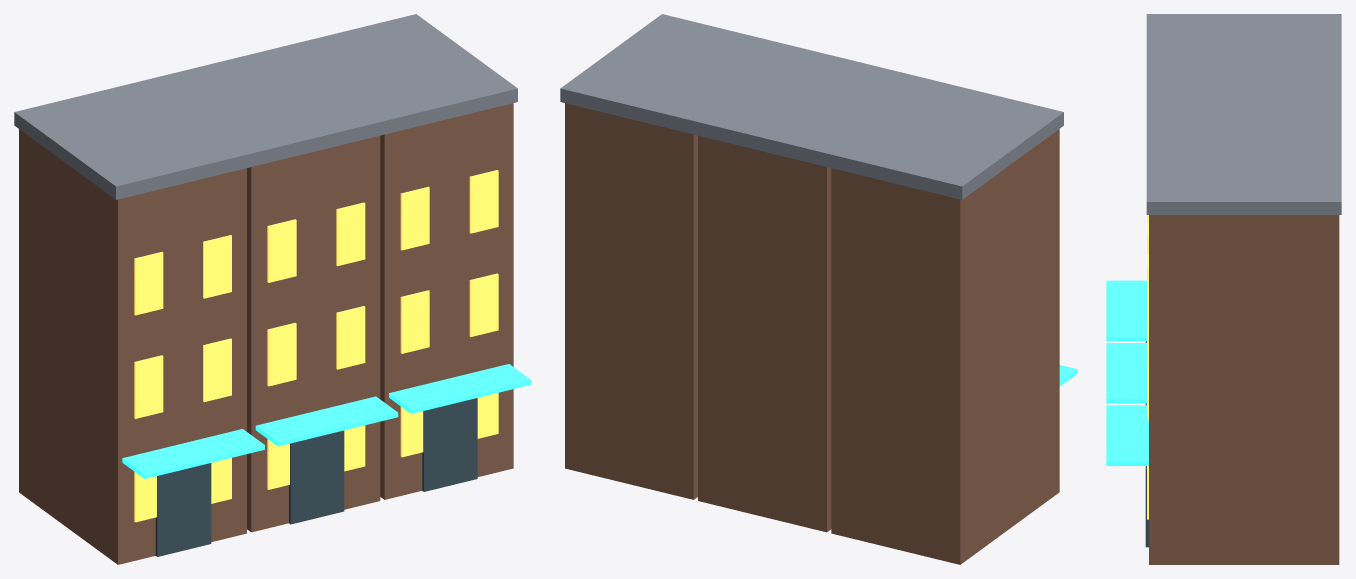
The model's file is oldtown.glb.
The picture shows the model from 3 angles, left to right: view 1: azimuth 30°, elevation 25°; view 2: azimuth 150°, elevation 25°; view 3: azimuth 270°, elevation 25°; orthographic projection. The views are drawn at different scales.
Visible parts, largest first — view 1: Landmark; view 2: Landmark; view 3: Landmark.
Part boxes in pixels (x1,y1,x2,y2): Landmark: [14, 14, 531, 564]; Landmark: [560, 14, 1077, 564]; Landmark: [1106, 14, 1341, 564].
Bounding box in the file's own units: 9.35 × 8.45 × 4.95.
